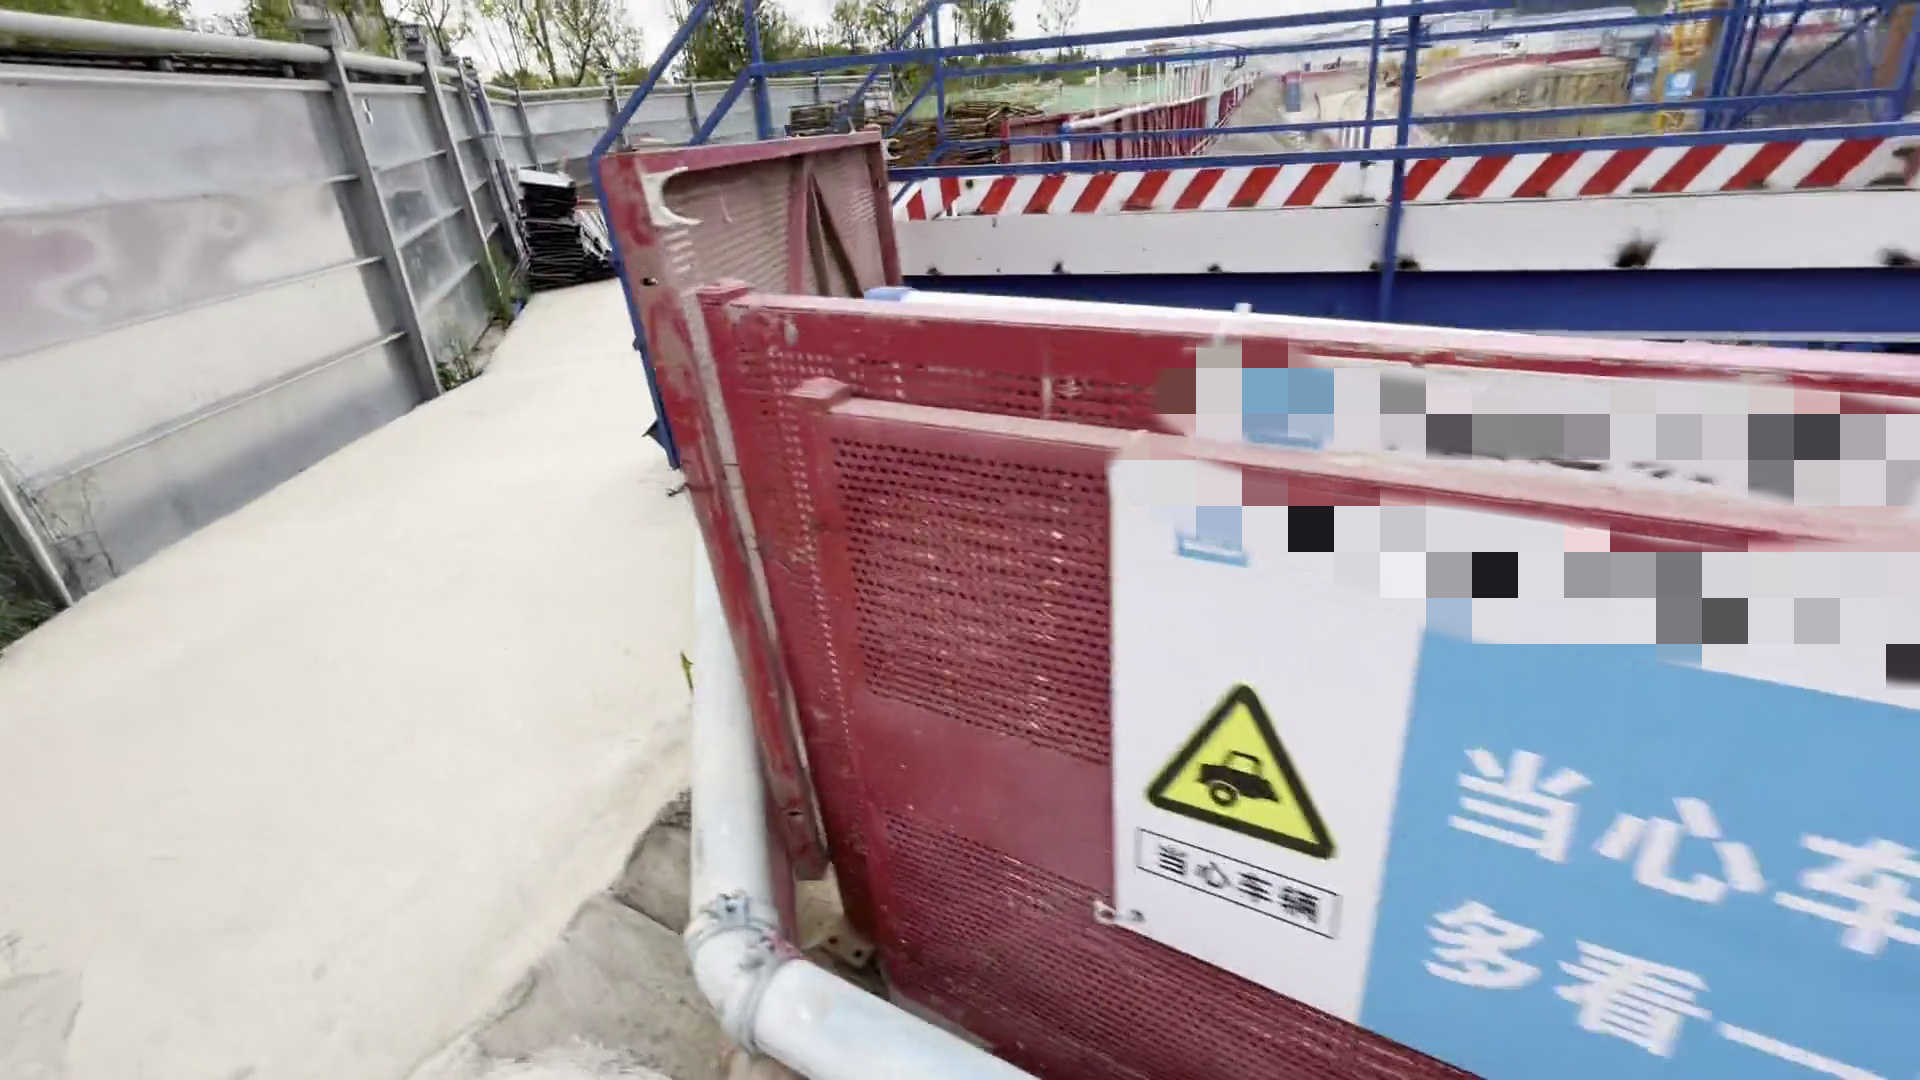fence: (622, 88, 1226, 1044)
slogan: (1089, 368, 1920, 1080)
